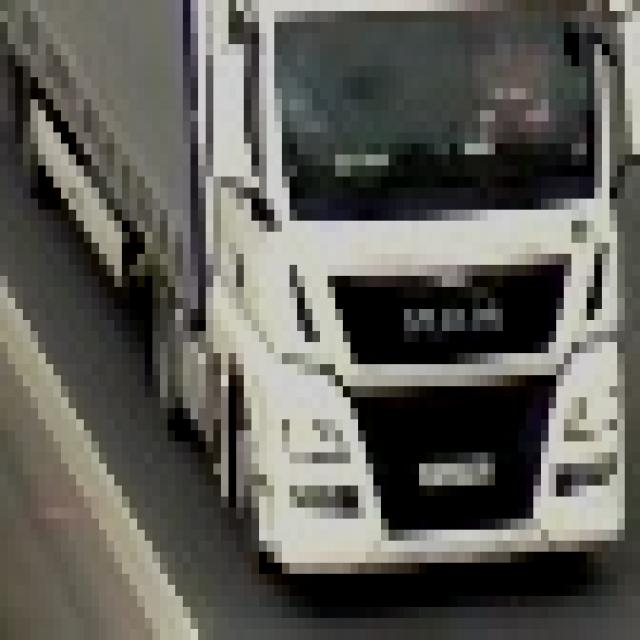TRUCK: (152, 2, 627, 581)
